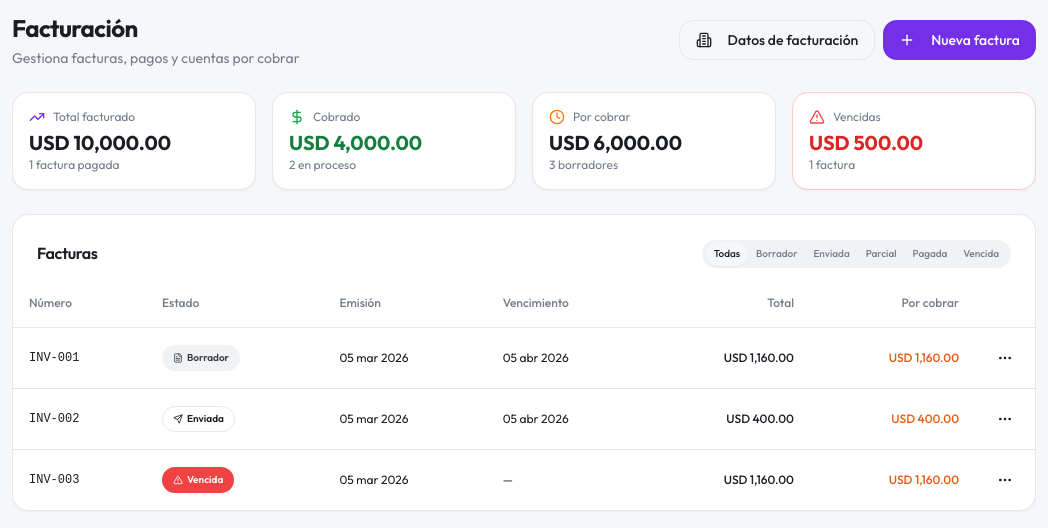
Test: Invoicing, in Spanish › does not offer to delete a sent invoice
Press the mouse on the button named "Acciones" in the row of "INV-002" at {"x": 1005, "y": 419}, box x1=991 y1=405 x2=1019 y2=433
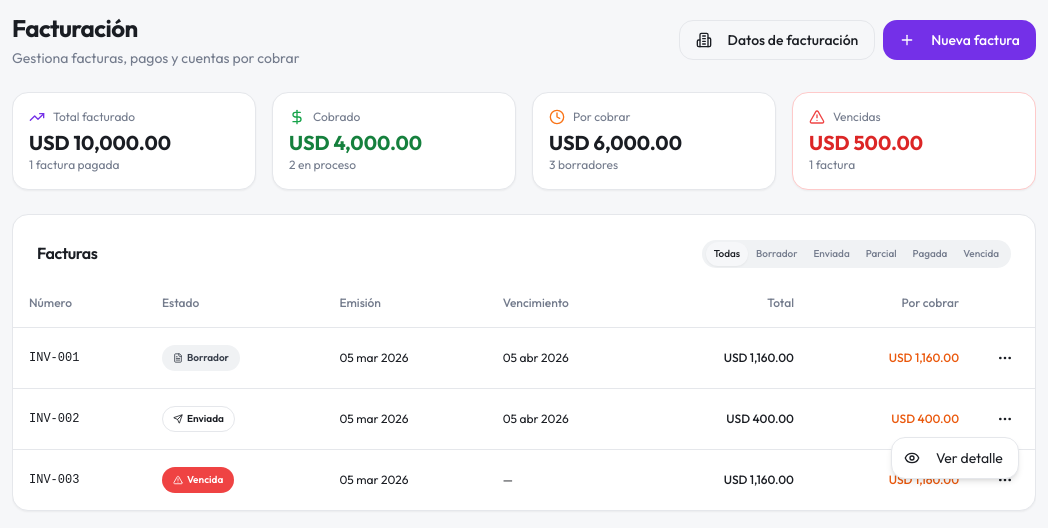
Expected: the menu item "Ver detalle" is shown, x1=904 y1=449 x2=1003 y2=467
